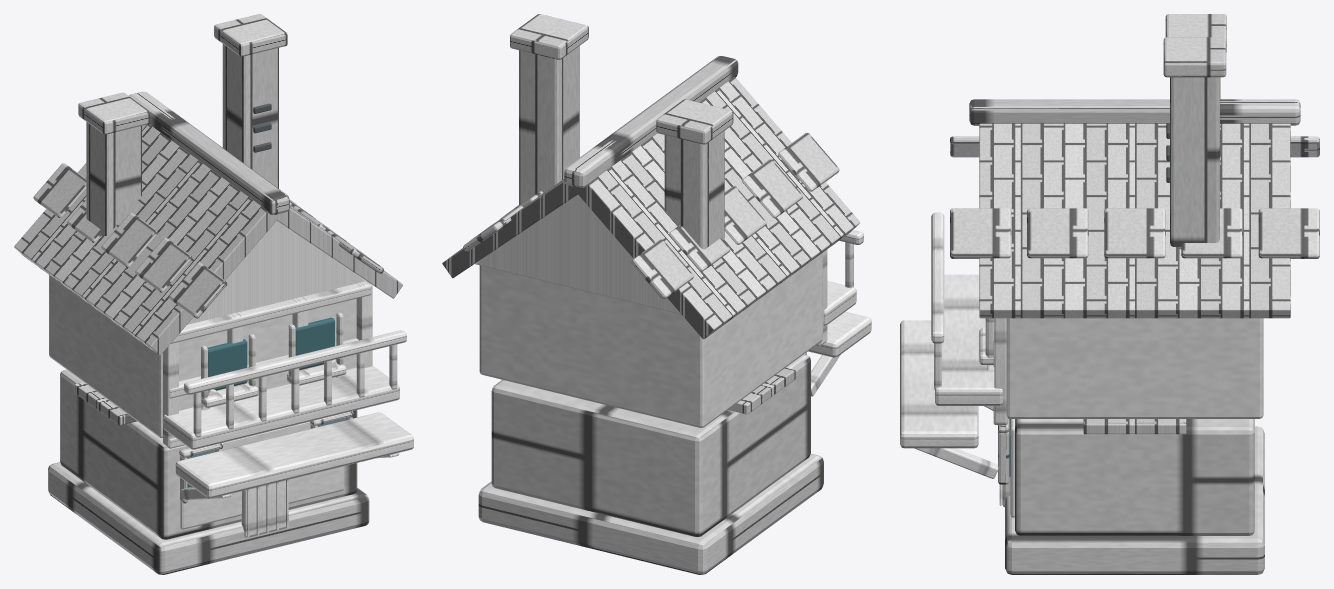
Rendered from house_large_c.glb.
3 renders of one model, left to right at view 1: azimuth 30°, elevation 25°; view 2: azimuth 150°, elevation 25°; view 3: azimuth 270°, elevation 25°, orthographic. The views are drawn at different scales.
Parts seen in each view (by area): view 1: LargeHouseVariantC_Geometry; view 2: LargeHouseVariantC_Geometry; view 3: LargeHouseVariantC_Geometry.
Part boxes in pixels (box(x1,y1,x2,y2)): LargeHouseVariantC_Geometry: box(14, 14, 413, 574); LargeHouseVariantC_Geometry: box(442, 14, 871, 574); LargeHouseVariantC_Geometry: box(900, 14, 1319, 574).
Size of the model in its own units: 2.33 by 3.92 by 2.94.
12 materials, 10 textured.
